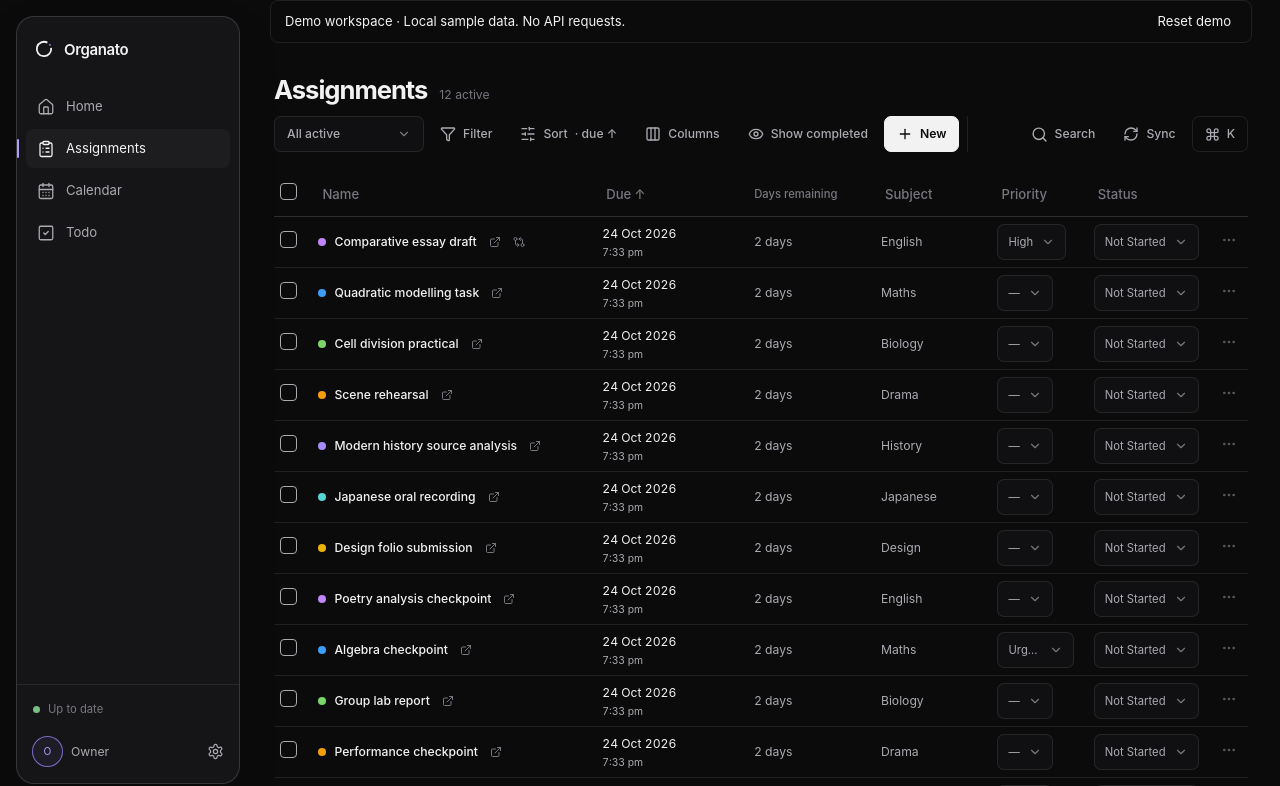
Test case: unified assignments › lets old unclassified work open directly without a classification control
Click the row named "Open details for Comparative essay draft": (761, 242) top-left (274, 217), bottom-right (1248, 268)
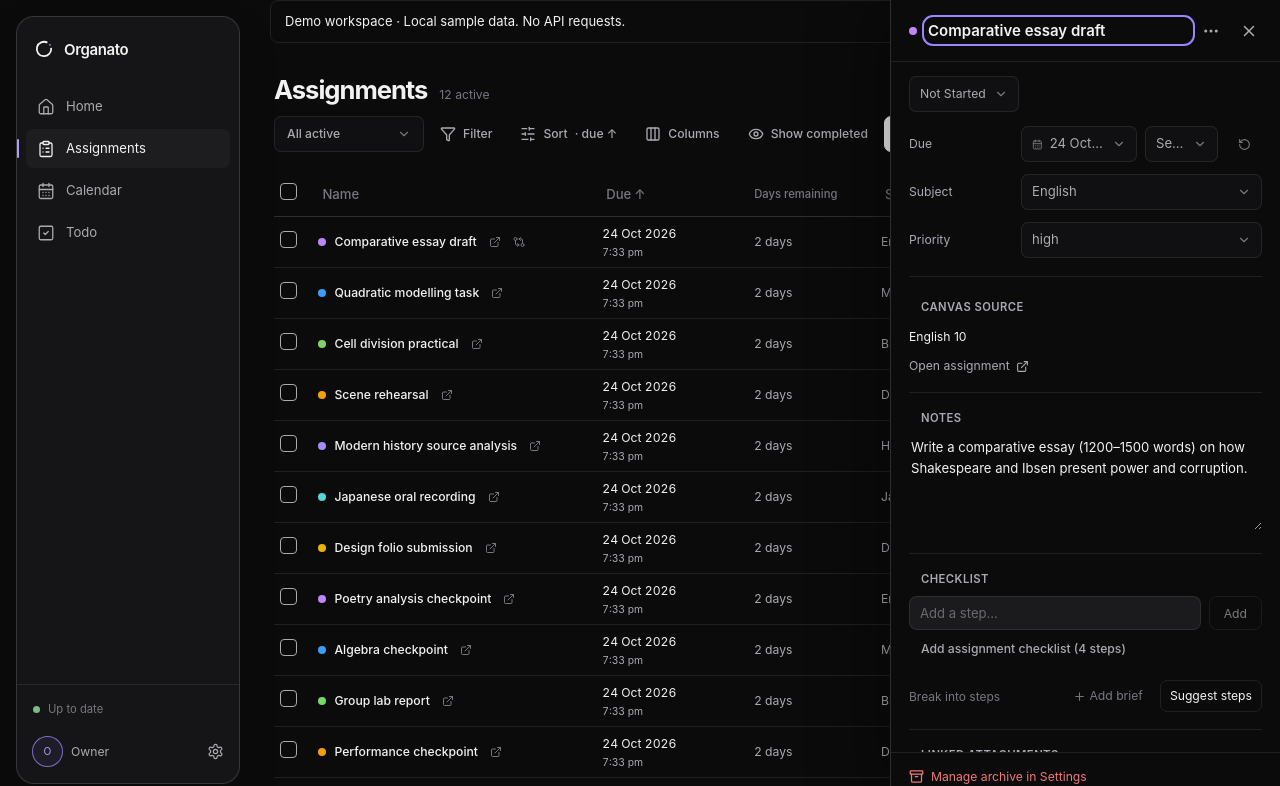
Expected: the text box named "notes" is shown, top-left (909, 435), bottom-right (1262, 530)
